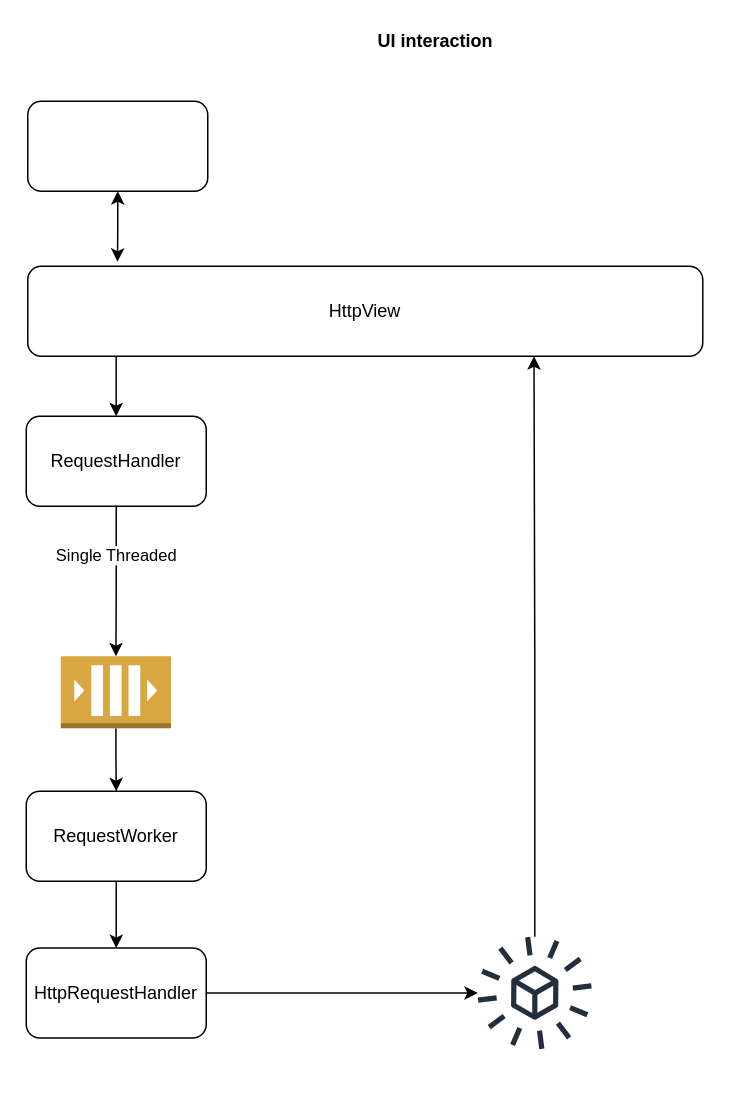
Image size: 729x1106. Some labels were removed from this diagram. Here are the shapes that lost their labels. From the top down, the centre of each, then its label:
At (117,145): "HttpUI".
At (534,992): "Event".
